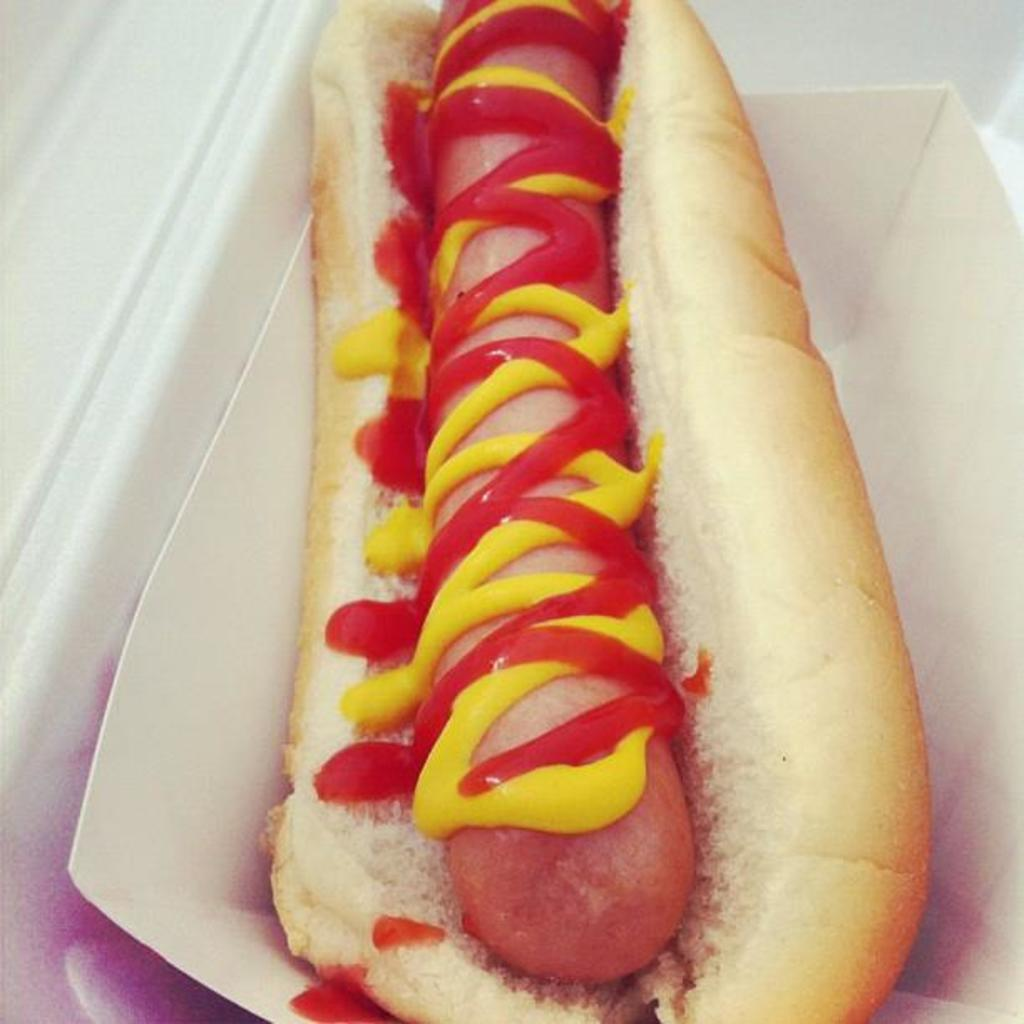hot_dog: (264, 0, 940, 1022)
